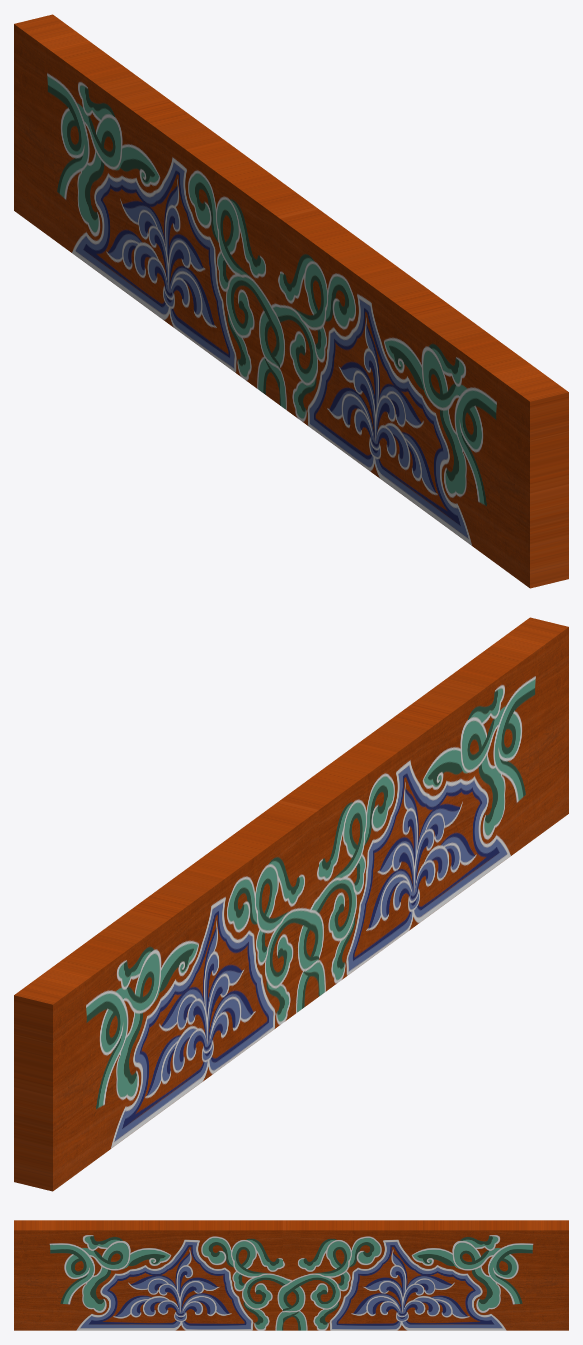
The model's file is SM_Hwaban05K.fbx.
3 views of the same model, one above another, from view 1: azimuth 30°, elevation 25°; view 2: azimuth 150°, elevation 25°; view 3: azimuth 270°, elevation 25° (orthographic). The views are drawn at different scales.
Parts seen in each view (by area): view 1: SM_Hwaban05K; view 2: SM_Hwaban05K; view 3: SM_Hwaban05K.
Part boxes in pixels (x1,y1,x2,y2): SM_Hwaban05K: (14,14,568,588); SM_Hwaban05K: (14,617,568,1191); SM_Hwaban05K: (14,1220,568,1330).
Bounding box in the file's own units: 6.75 × 155 × 30.98.
